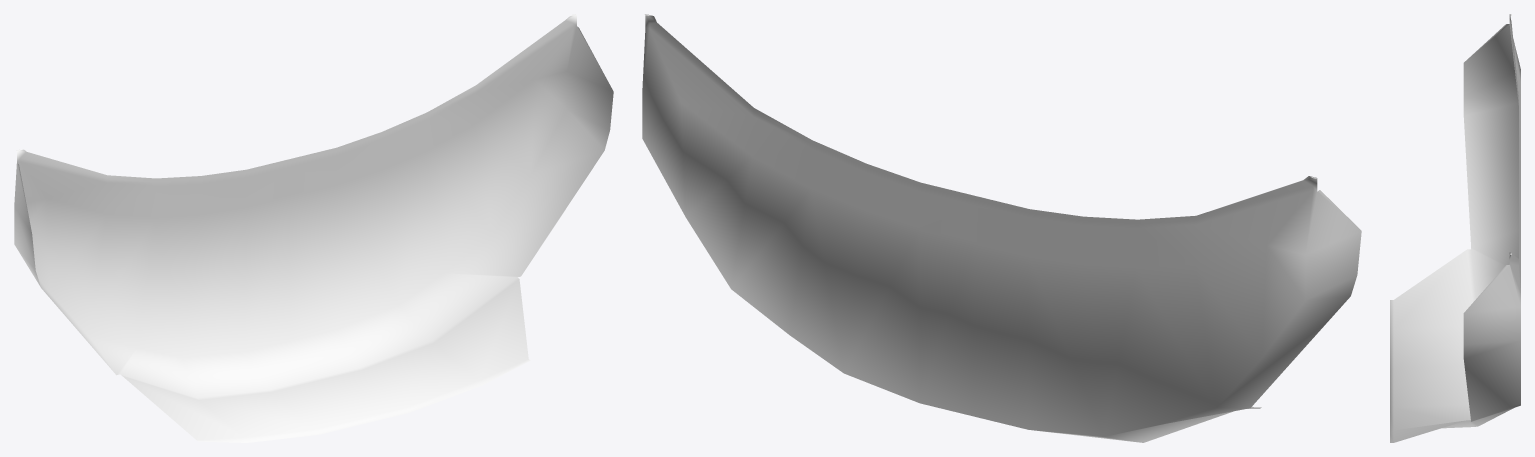
Rendered from Car 1A Baggage.fbx.
3 renders of one model, left to right at view 1: azimuth 30°, elevation 25°; view 2: azimuth 150°, elevation 25°; view 3: azimuth 270°, elevation 25°, orthographic. The views are drawn at different scales.
Visible parts, largest first — view 1: 1AU Baggage (3, Baked); view 2: 1AU Baggage (3, Baked); view 3: 1AU Baggage (3, Baked).
Part boxes in pixels (x1,y1,x2,y2): 1AU Baggage (3, Baked): (14,14,613,442); 1AU Baggage (3, Baked): (642,14,1361,442); 1AU Baggage (3, Baked): (1390,14,1520,442).
Size of the model in its own units: 161 by 77 by 35.5.
Materials: 1 (1 with a texture image).
